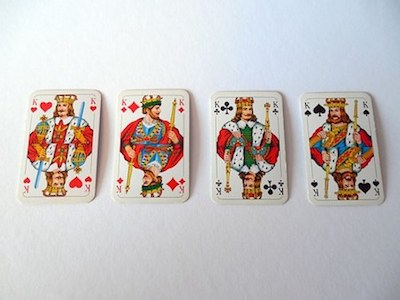KingOfClubs: (206, 87, 293, 207)
KingOfDiamonds: (114, 87, 193, 203)
KingOfHearts: (12, 85, 104, 204)
KingOfSpades: (297, 87, 388, 210)
